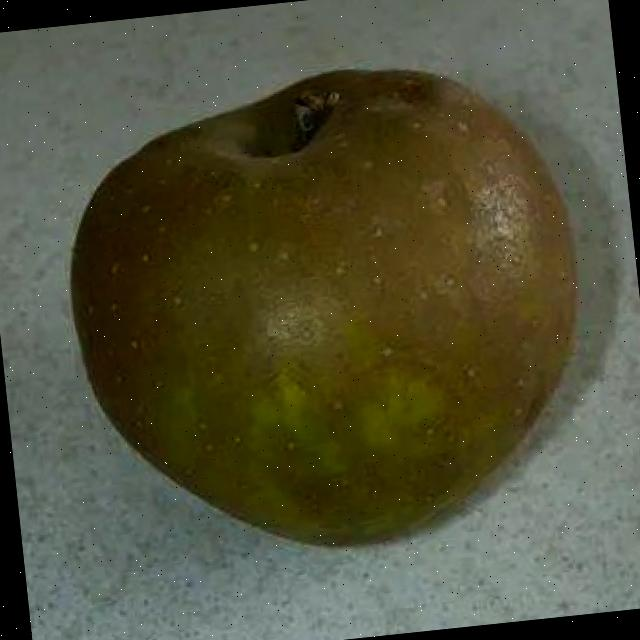apple: (3, 5, 640, 609)
